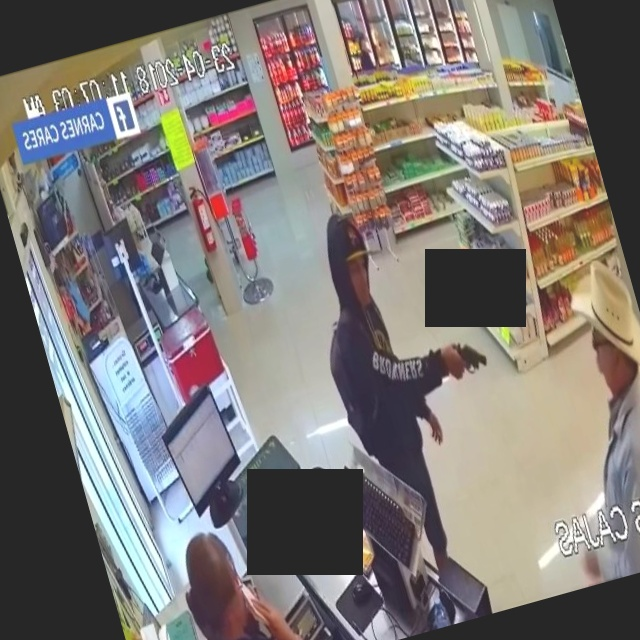gun: (438, 327, 495, 397)
